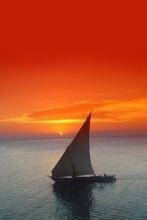fanchuan: (48, 108, 120, 187)
